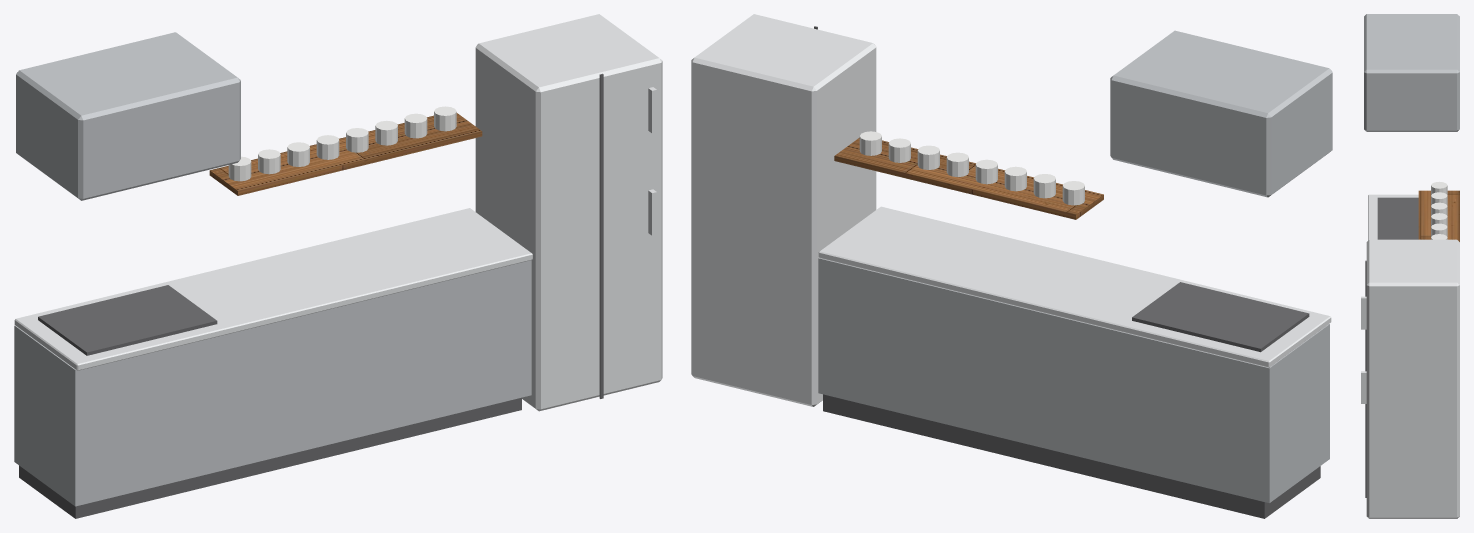
The model's file is back_kitchen.glb.
3 renders of one model, left to right at view 1: azimuth 30°, elevation 25°; view 2: azimuth 150°, elevation 25°; view 3: azimuth 270°, elevation 25°, orthographic. The views are drawn at different scales.
Visible parts, largest first — view 1: back_kitchen_steel, back_kitchen_chrome, back_kitchen_dark, back_kitchen_wood, back_kitchen_porcelain; view 2: back_kitchen_steel, back_kitchen_chrome, back_kitchen_dark, back_kitchen_wood, back_kitchen_porcelain; view 3: back_kitchen_chrome, back_kitchen_steel, back_kitchen_dark, back_kitchen_wood, back_kitchen_porcelain.
Part boxes in pixels (box(x1,y1,x2,y2)): back_kitchen_steel: box(14, 32, 531, 506); back_kitchen_chrome: box(14, 14, 662, 411); back_kitchen_dark: box(19, 73, 603, 518); back_kitchen_wood: box(209, 113, 482, 195); back_kitchen_porcelain: box(228, 106, 456, 181); back_kitchen_steel: box(818, 30, 1332, 503); back_kitchen_chrome: box(691, 14, 1331, 406); back_kitchen_dark: box(814, 26, 1320, 518); back_kitchen_wood: box(834, 137, 1103, 219); back_kitchen_porcelain: box(859, 131, 1084, 205); back_kitchen_chrome: box(1361, 194, 1459, 518); back_kitchen_steel: box(1364, 14, 1459, 131); back_kitchen_dark: box(1365, 197, 1418, 497); back_kitchen_wood: box(1418, 190, 1459, 241); back_kitchen_porcelain: box(1431, 181, 1447, 239).
Size of the model in its own units: 3.6 by 2.4 by 0.72.
Materials: 5 (1 with a texture image).
